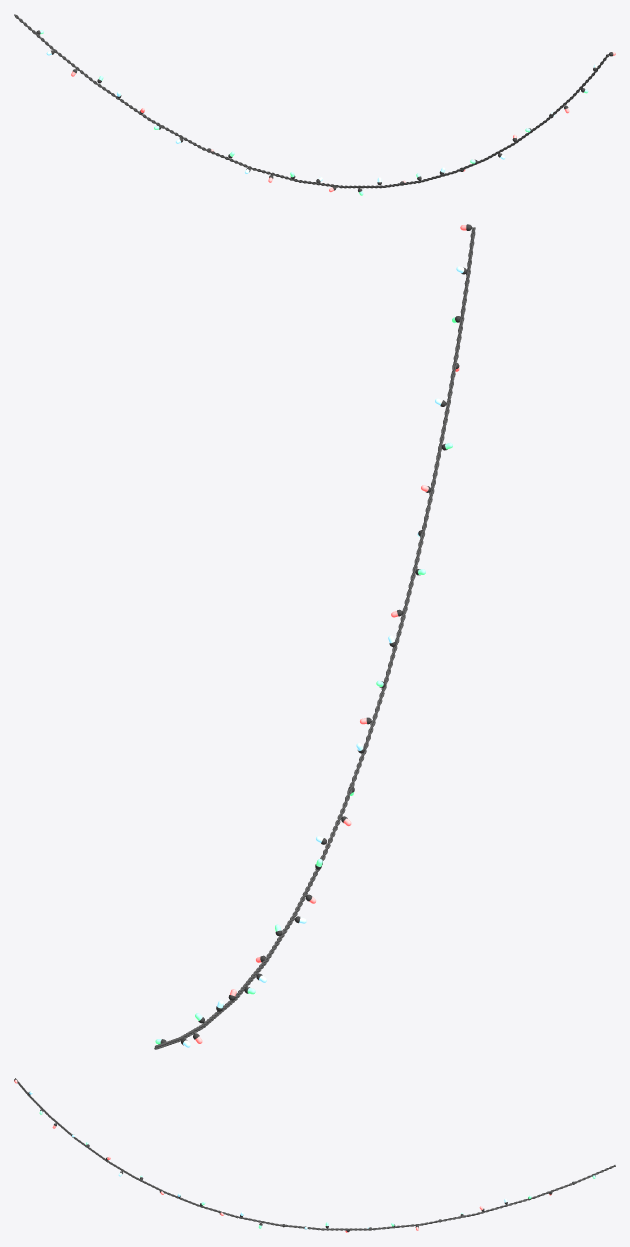
Rendered from christmas_lights.glb.
The picture shows the model from 3 angles, top to bottom: view 1: azimuth 30°, elevation 25°; view 2: azimuth 150°, elevation 25°; view 3: azimuth 270°, elevation 25°; orthographic projection. The views are drawn at different scales.
Parts seen in each view (by area): view 1: wire; view 2: wire; view 3: wire.
Part boxes in pixels (x1=…): wire: x1=14, y1=14, x2=609, y2=188; wire: x1=154, y1=227, x2=475, y2=1049; wire: x1=15, y1=1078, x2=615, y2=1230.
Size of the model in its own units: 1.45 by 1.86 by 5.11.
